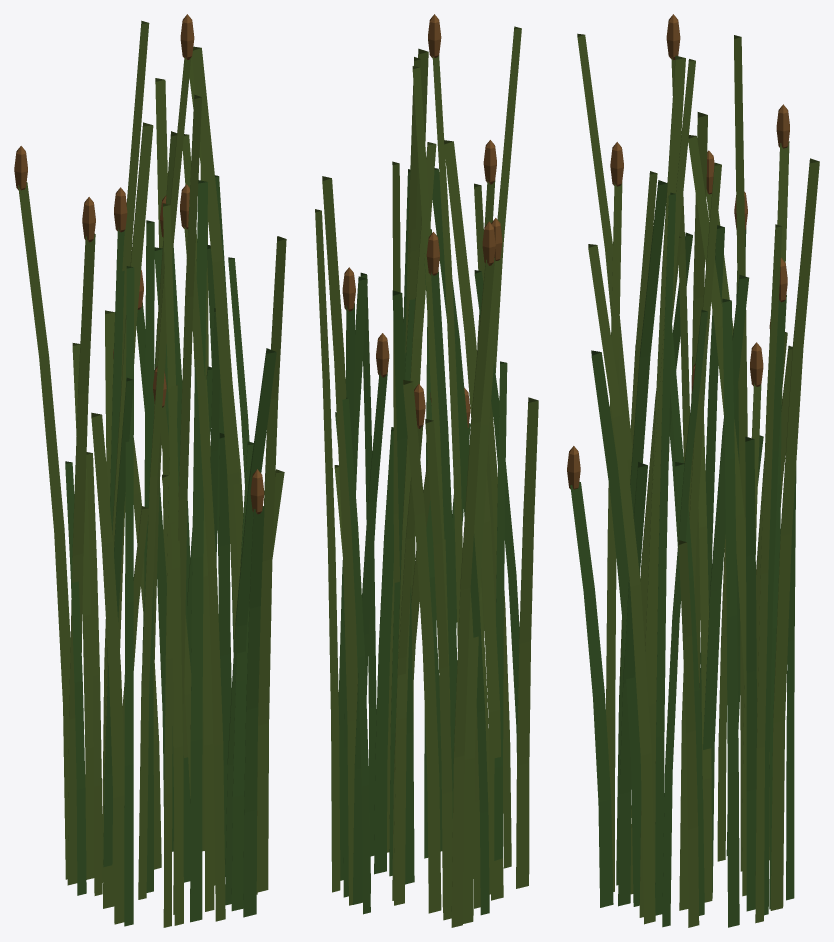
The model's file is wet_sedge_v2.glb.
3 views of the same model, side by side, from view 1: azimuth 30°, elevation 25°; view 2: azimuth 150°, elevation 25°; view 3: azimuth 270°, elevation 25° (orthographic). The views are drawn at different scales.
Parts seen in each view (by area): view 1: wet_sedge_v2; view 2: wet_sedge_v2; view 3: wet_sedge_v2.
Boxes of the visible parts, x1,y1,x2,y2 form: wet_sedge_v2: [14, 14, 286, 927]; wet_sedge_v2: [315, 14, 538, 927]; wet_sedge_v2: [567, 14, 819, 927].
Size of the model in its own units: 0.2082 by 0.8057 by 0.2102.
